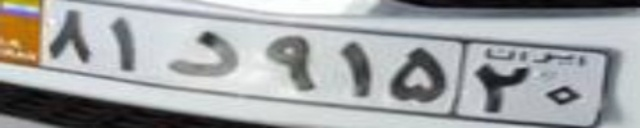0: (541, 83, 583, 107)
1: (335, 39, 370, 98), (108, 15, 136, 71)
2: (473, 63, 529, 112)
5: (385, 45, 446, 104)
8: (48, 9, 90, 64)
9: (264, 33, 317, 91)
dal: (165, 29, 241, 77)
